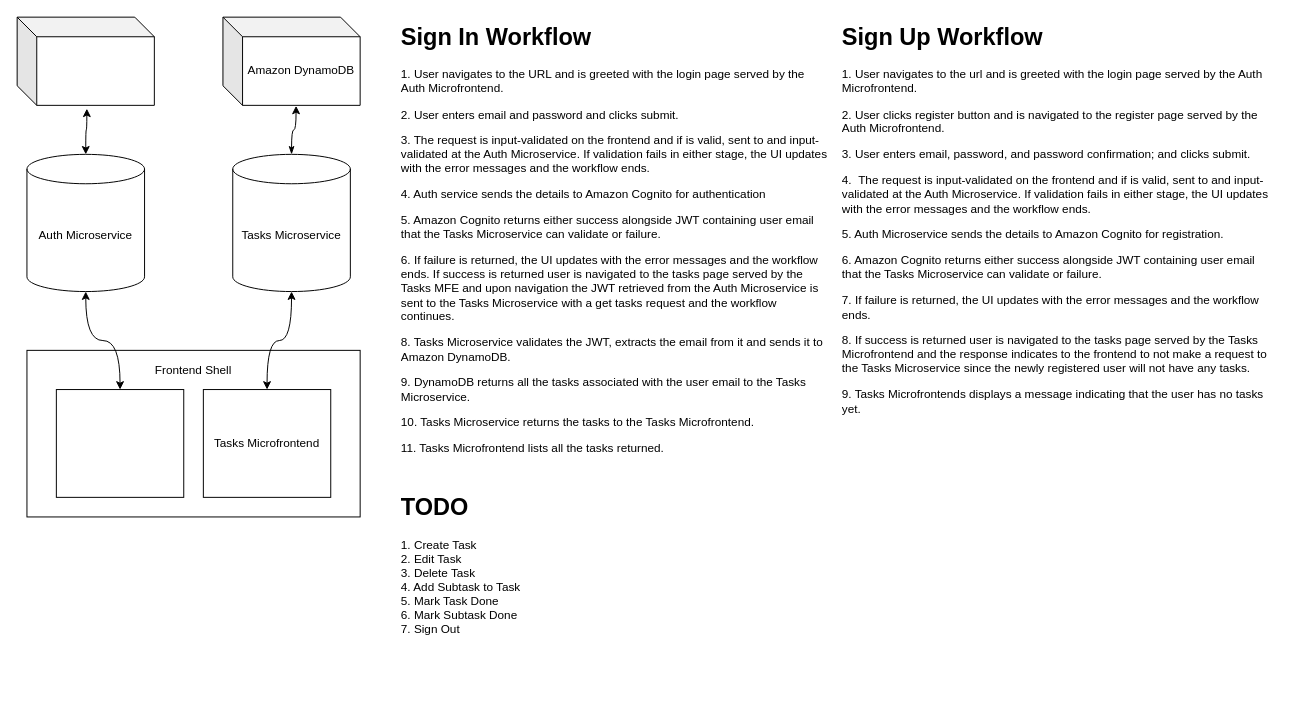
This 1289x723 diagram has some shape labels left out. Each missing label, with the centre of its shape:
Amazon Cognito: the point at 85,60
Auth Microfrontend: the point at 119,443
